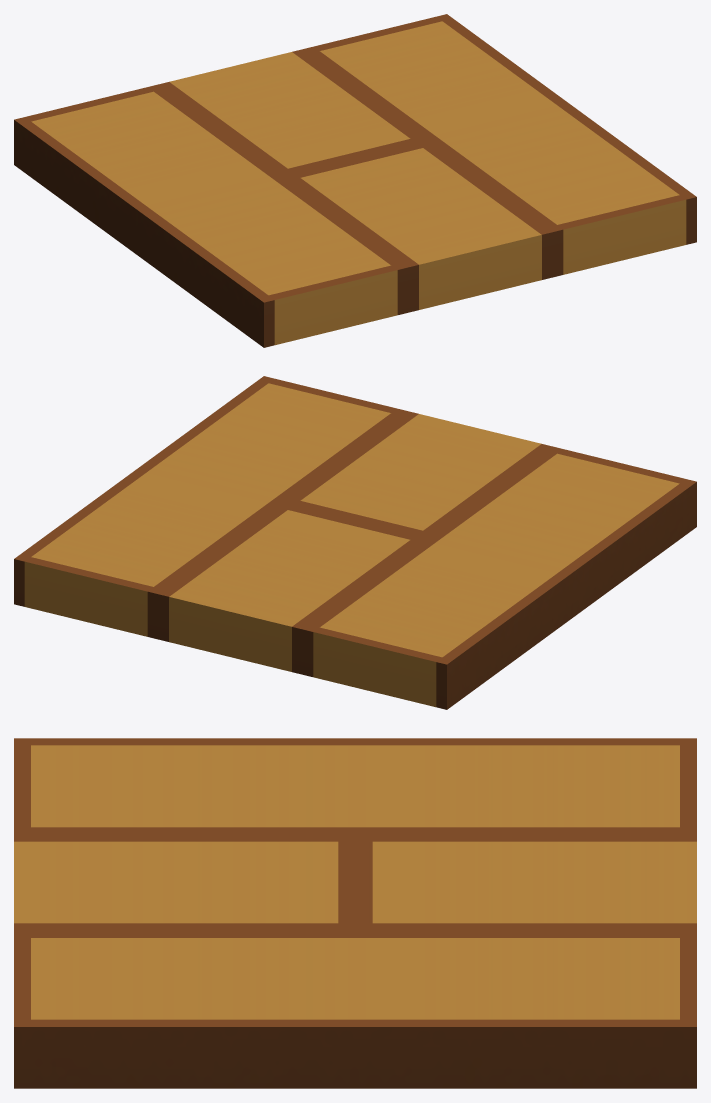
Rendered from FloorTile.FBX.
The picture shows the model from 3 angles, top to bottom: view 1: azimuth 30°, elevation 25°; view 2: azimuth 150°, elevation 25°; view 3: azimuth 270°, elevation 25°; orthographic projection. The views are drawn at different scales.
Parts seen in each view (by area): view 1: FloorTile01; view 2: FloorTile01; view 3: FloorTile01.
Part boxes in pixels (box(x1,y1,x2,y2)): FloorTile01: box(14, 14, 696, 347); FloorTile01: box(14, 376, 696, 709); FloorTile01: box(14, 738, 696, 1088).
Size of the model in its own units: 1 by 0.1 by 1.
